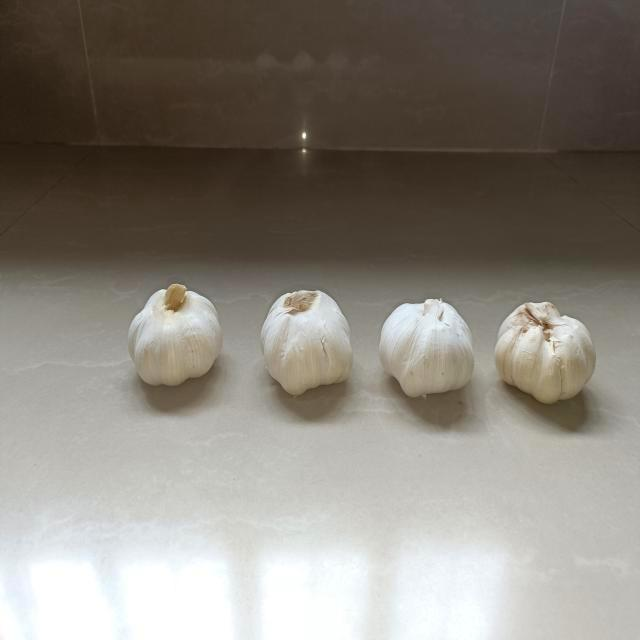garlic: (490, 294, 601, 416), (255, 279, 357, 402), (121, 279, 229, 391), (375, 293, 479, 401)
